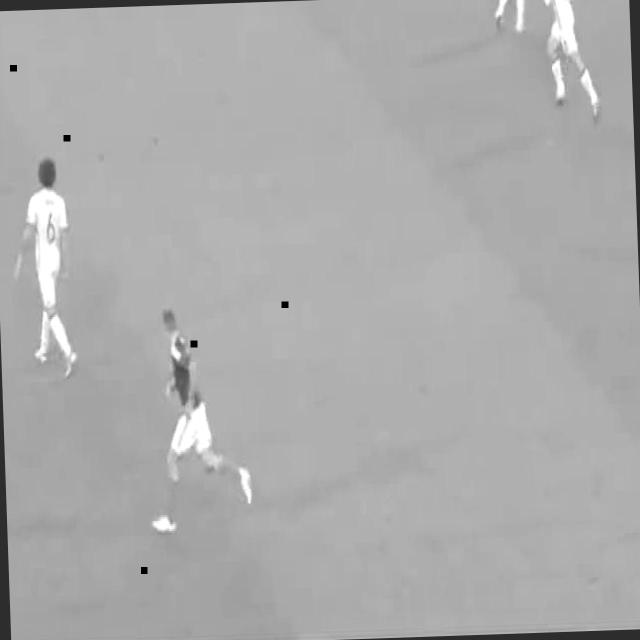player-white: (145, 306, 253, 533), (12, 158, 78, 380), (543, 0, 602, 120), (494, 0, 525, 34)
